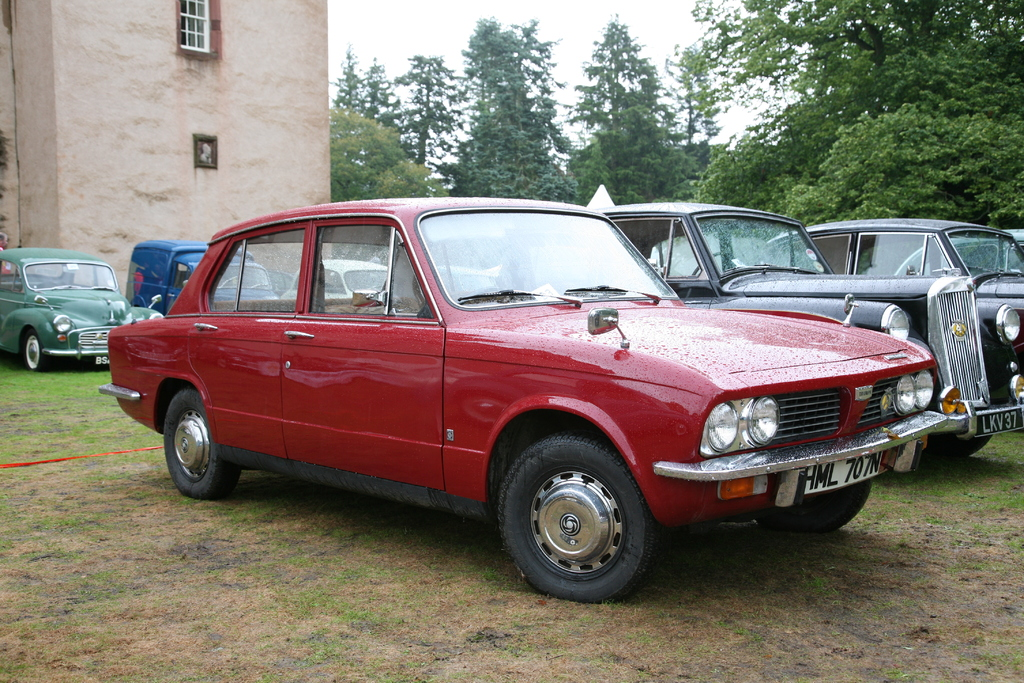cars: (96, 187, 948, 609), (492, 202, 1022, 479), (743, 219, 1020, 453), (0, 243, 167, 375), (123, 240, 283, 312), (279, 255, 401, 303)
